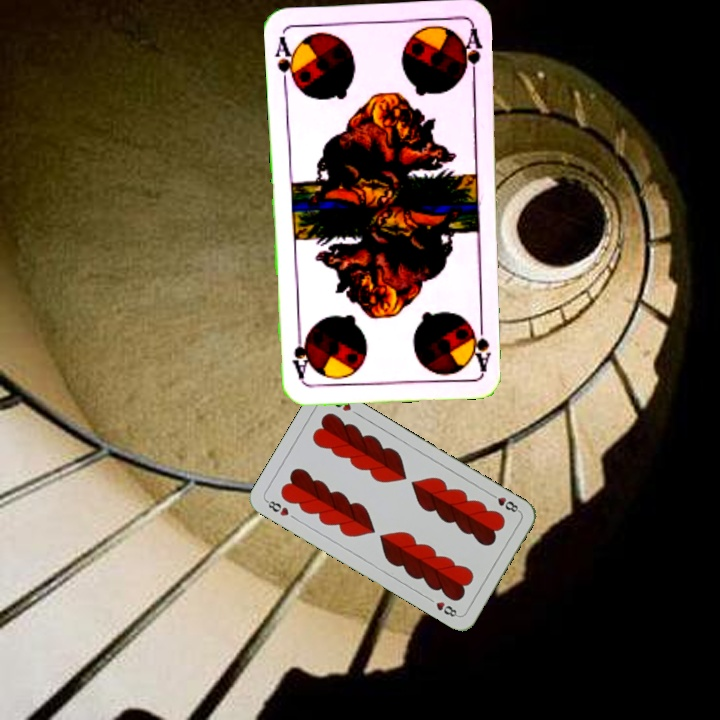H8: (486, 489, 523, 515), (262, 496, 291, 519)
SA: (271, 32, 300, 91), (470, 313, 494, 372)
